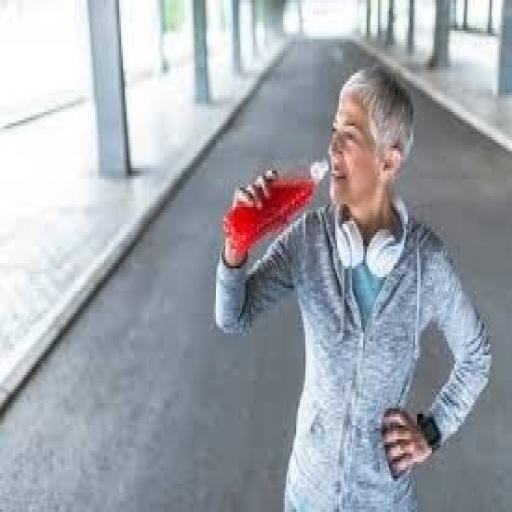drinking: (212, 62, 492, 509)
